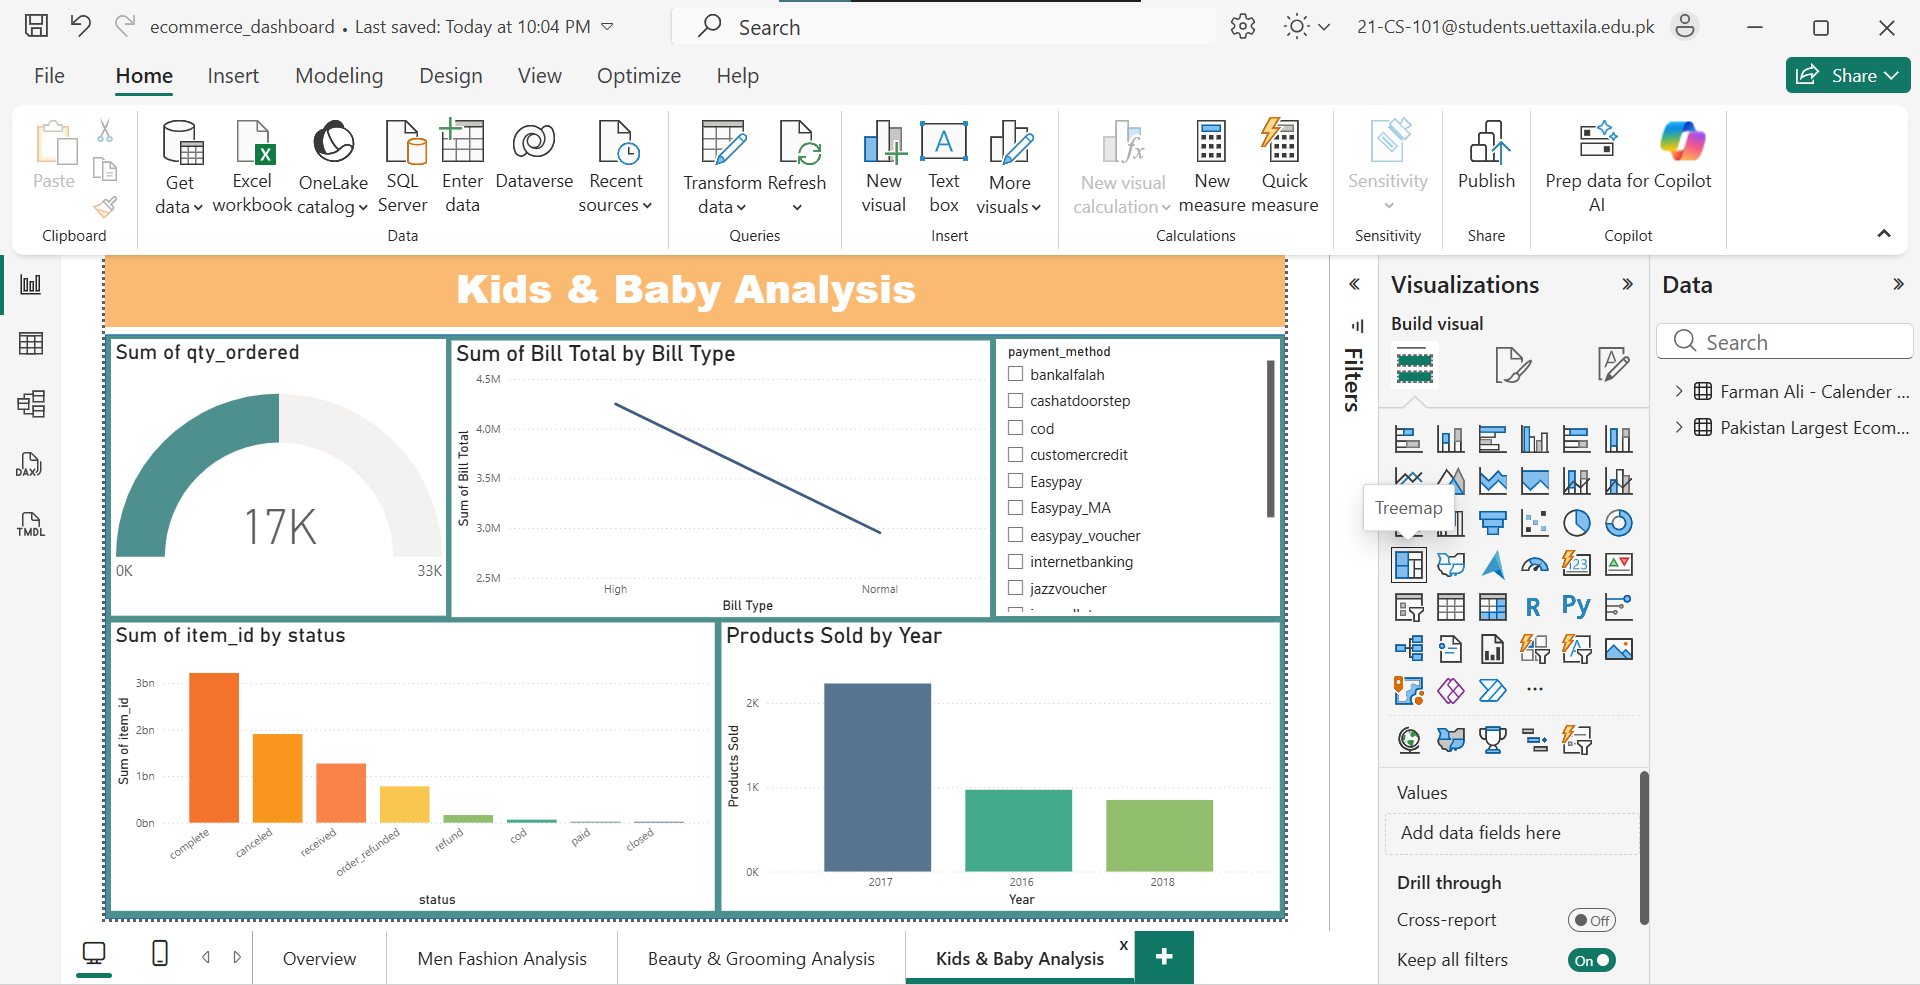

What the dashboard file says about the page in this screenshot:
{"tool":"powerbi","page":{"name":"Kids & Baby Analysis","canvas":[1280,720],"ordinal":3},"visuals":[{"type":"shape","box":[0,0,1280,78],"z":0},{"type":"textbox","box":[376,0,528,92],"z":1000},{"type":"shape","box":[0,86,1280,634],"z":2000},{"type":"columnChart","fields":{"Category":["Pakistan Largest Ecommerce Data (2).status"],"Y":["Sum(Pakistan Largest Ecommerce Data (2).item_id)"]},"box":[6.4,399.1,654.5,312.7],"z":3000},{"type":"columnChart","fields":{"Category":["Lubna Bhutto - Calender (3).Year"],"Y":["Pakistan Largest Ecommerce Data (2).Products Sold"]},"box":[668.2,399.1,605.5,312.7],"z":4000},{"type":"lineChart","fields":{"Category":["Pakistan Largest Ecommerce Data (2).Bill Type"],"Y":["Sum(Pakistan Largest Ecommerce Data (2).Bill Total)"]},"box":[376,92,584,300],"z":5000},{"type":"slicer","fields":{"Values":["Pakistan Largest Ecommerce Data (2).payment_method"]},"box":[966.4,91.8,307.3,300],"z":6000},{"type":"gauge","fields":{"Y":["Sum(Pakistan Largest Ecommerce Data (2).qty_ordered)"]},"box":[6.4,91.8,363.6,300],"z":7000}]}

Visuals, with their boxes on the page's 1280x720 design canvas (x1, y1, x2, y2). These are canvas units, not pixel positions in the 1920x985 screenshot, which may show the page scaled, cropped or inside an application window:
shape: <box>0,0,1280,78</box>
textbox: <box>376,0,904,92</box>
shape: <box>0,86,1280,720</box>
columnChart - Pakistan Largest Ecommerce Data (2).status x Sum(Pakistan Largest Ecommerce Data (2).item_id): <box>6,399,661,712</box>
columnChart - Lubna Bhutto - Calender (3).Year x Pakistan Largest Ecommerce Data (2).Products Sold: <box>668,399,1274,712</box>
lineChart - Pakistan Largest Ecommerce Data (2).Bill Type x Sum(Pakistan Largest Ecommerce Data (2).Bill Total): <box>376,92,960,392</box>
slicer - Pakistan Largest Ecommerce Data (2).payment_method: <box>966,92,1274,392</box>
gauge - Sum(Pakistan Largest Ecommerce Data (2).qty_ordered): <box>6,92,370,392</box>
